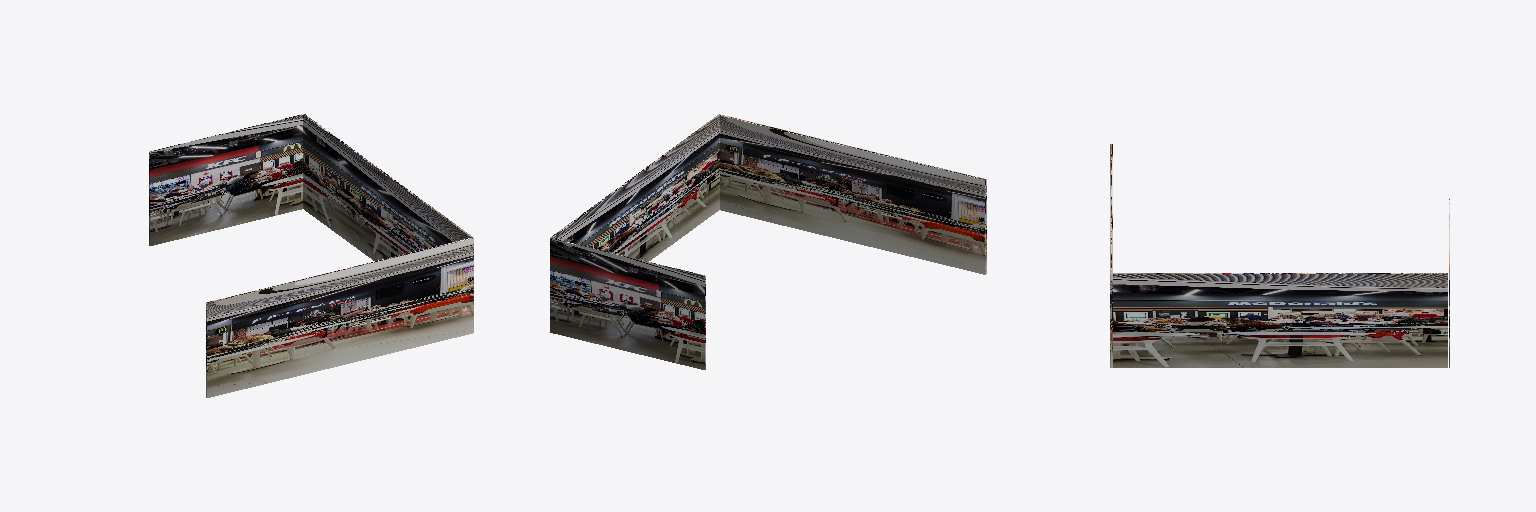
3 renders of one model, left to right at view 1: azimuth 30°, elevation 25°; view 2: azimuth 150°, elevation 25°; view 3: azimuth 270°, elevation 25°, orthographic.
Visible parts, largest first — view 1: Box072, Box071, Box073; view 2: Box072, Box071, Box073; view 3: Box073, Box072.
Boxes of the visible parts, x1=… form: Box072: x1=206, y1=238, x2=473, y2=397; Box071: x1=149, y1=114, x2=304, y2=245; Box073: x1=303, y1=114, x2=472, y2=260; Box072: x1=719, y1=114, x2=986, y2=274; Box071: x1=550, y1=238, x2=705, y2=369; Box073: x1=550, y1=115, x2=719, y2=261; Box073: x1=1113, y1=273, x2=1447, y2=367; Box072: x1=1110, y1=144, x2=1112, y2=367.
Bounding box in the file's own units: 223 × 75.55 × 245.
Materials: 3 (3 with a texture image).